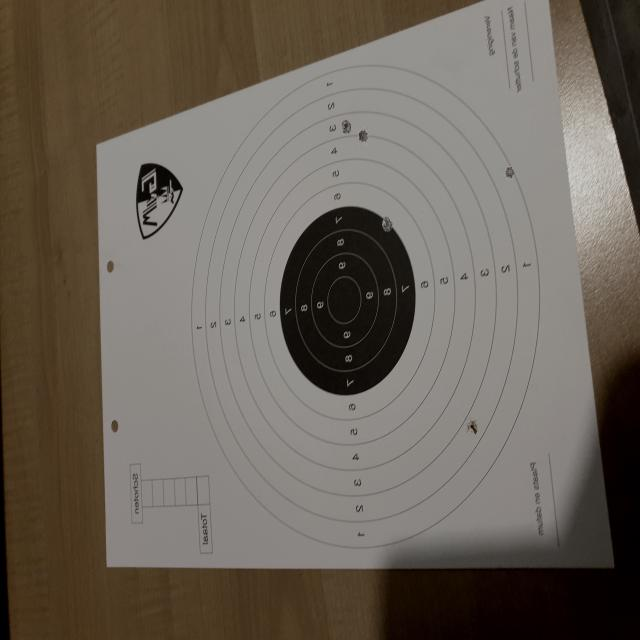1: (504, 164, 515, 182)
2: (465, 417, 478, 436)
3: (341, 120, 351, 135)
4: (357, 127, 369, 146)
7: (382, 216, 392, 232)
Target: (190, 61, 540, 550)
black_contour: (280, 206, 416, 396)
